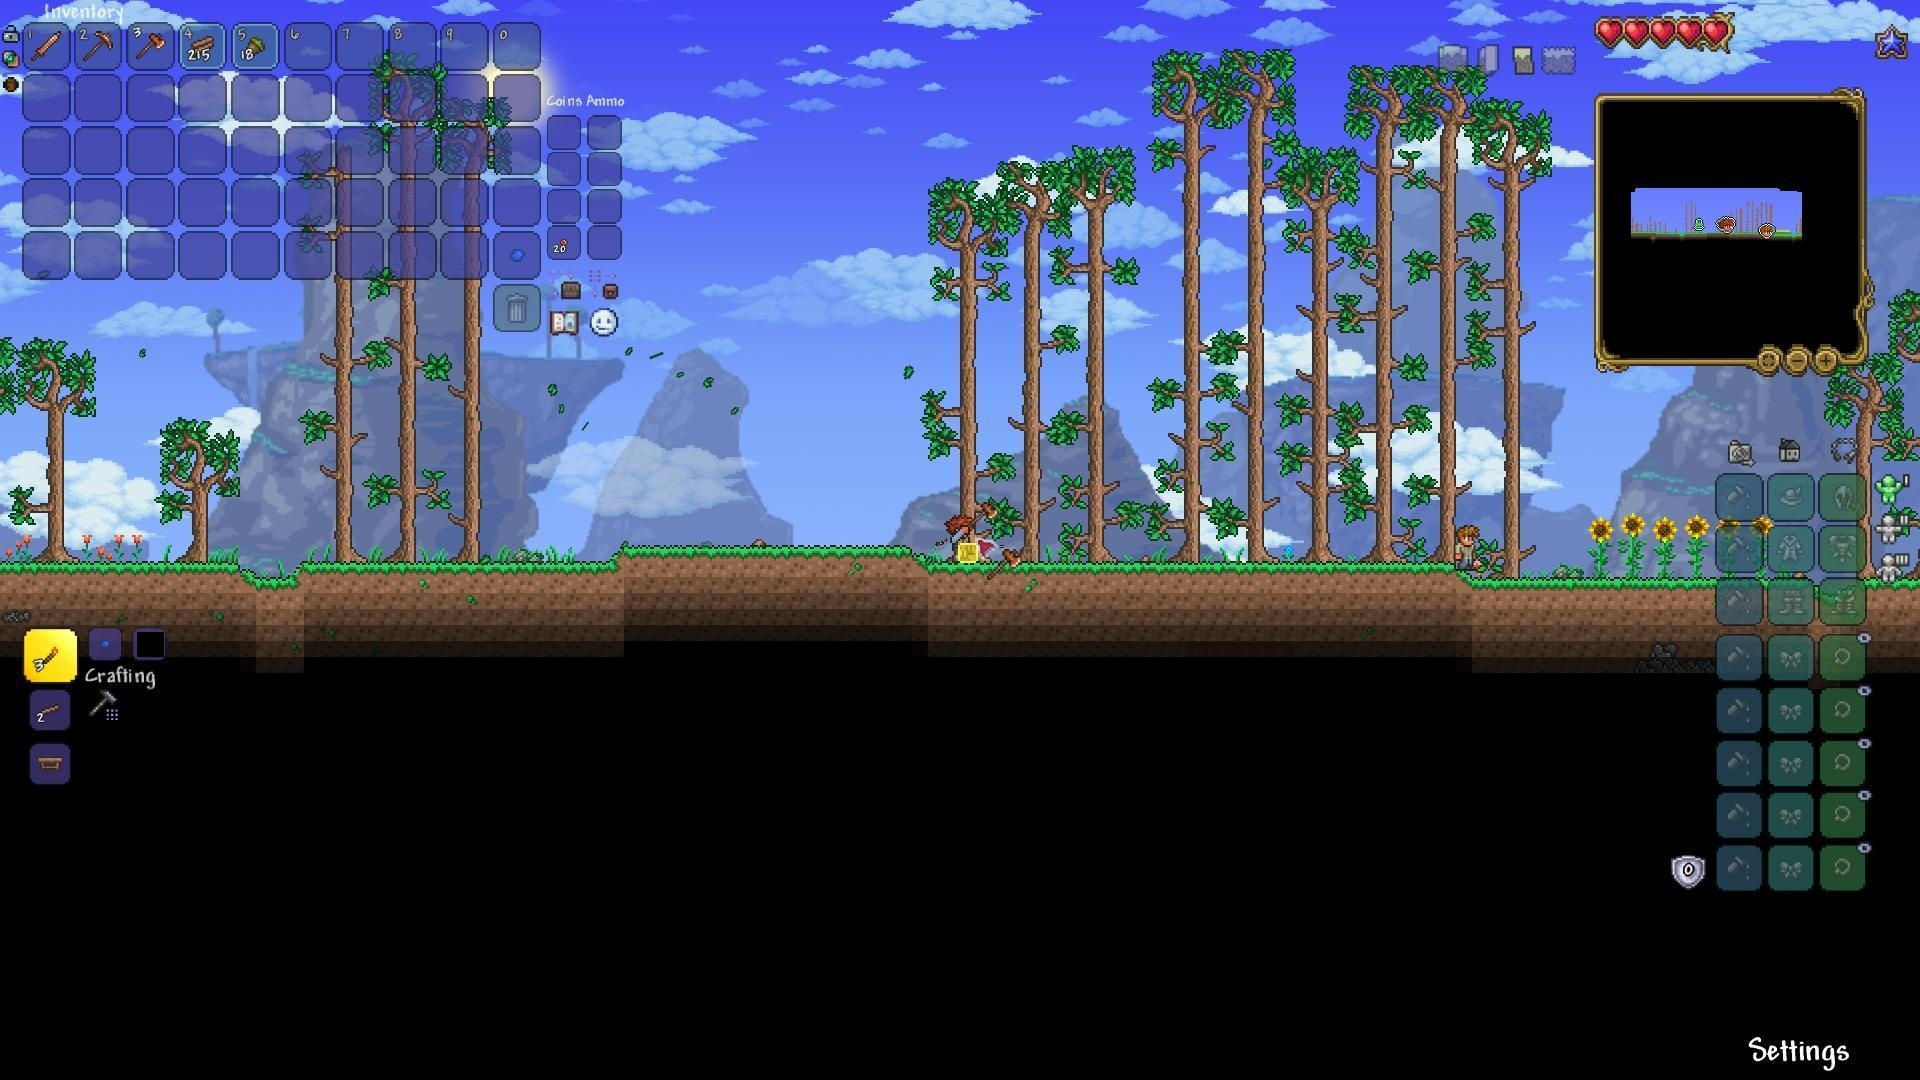wood: (189, 32, 216, 61)
workbench: (36, 753, 67, 775)
